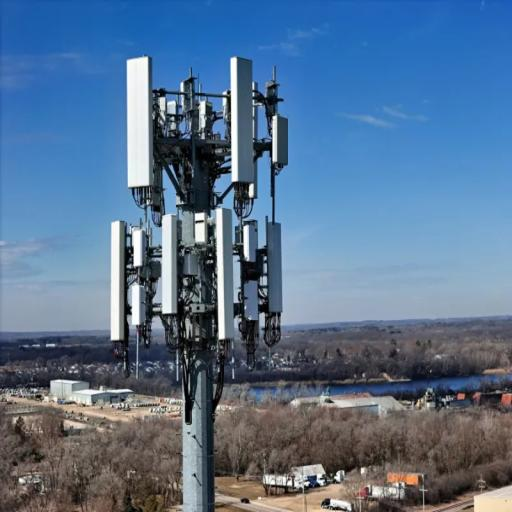monopole_tower: (108, 48, 287, 512)
